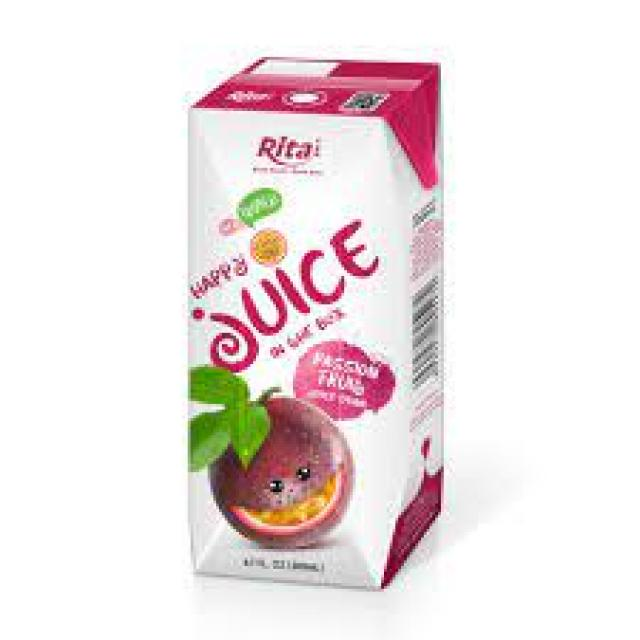non_white_jug: (134, 40, 484, 623)
